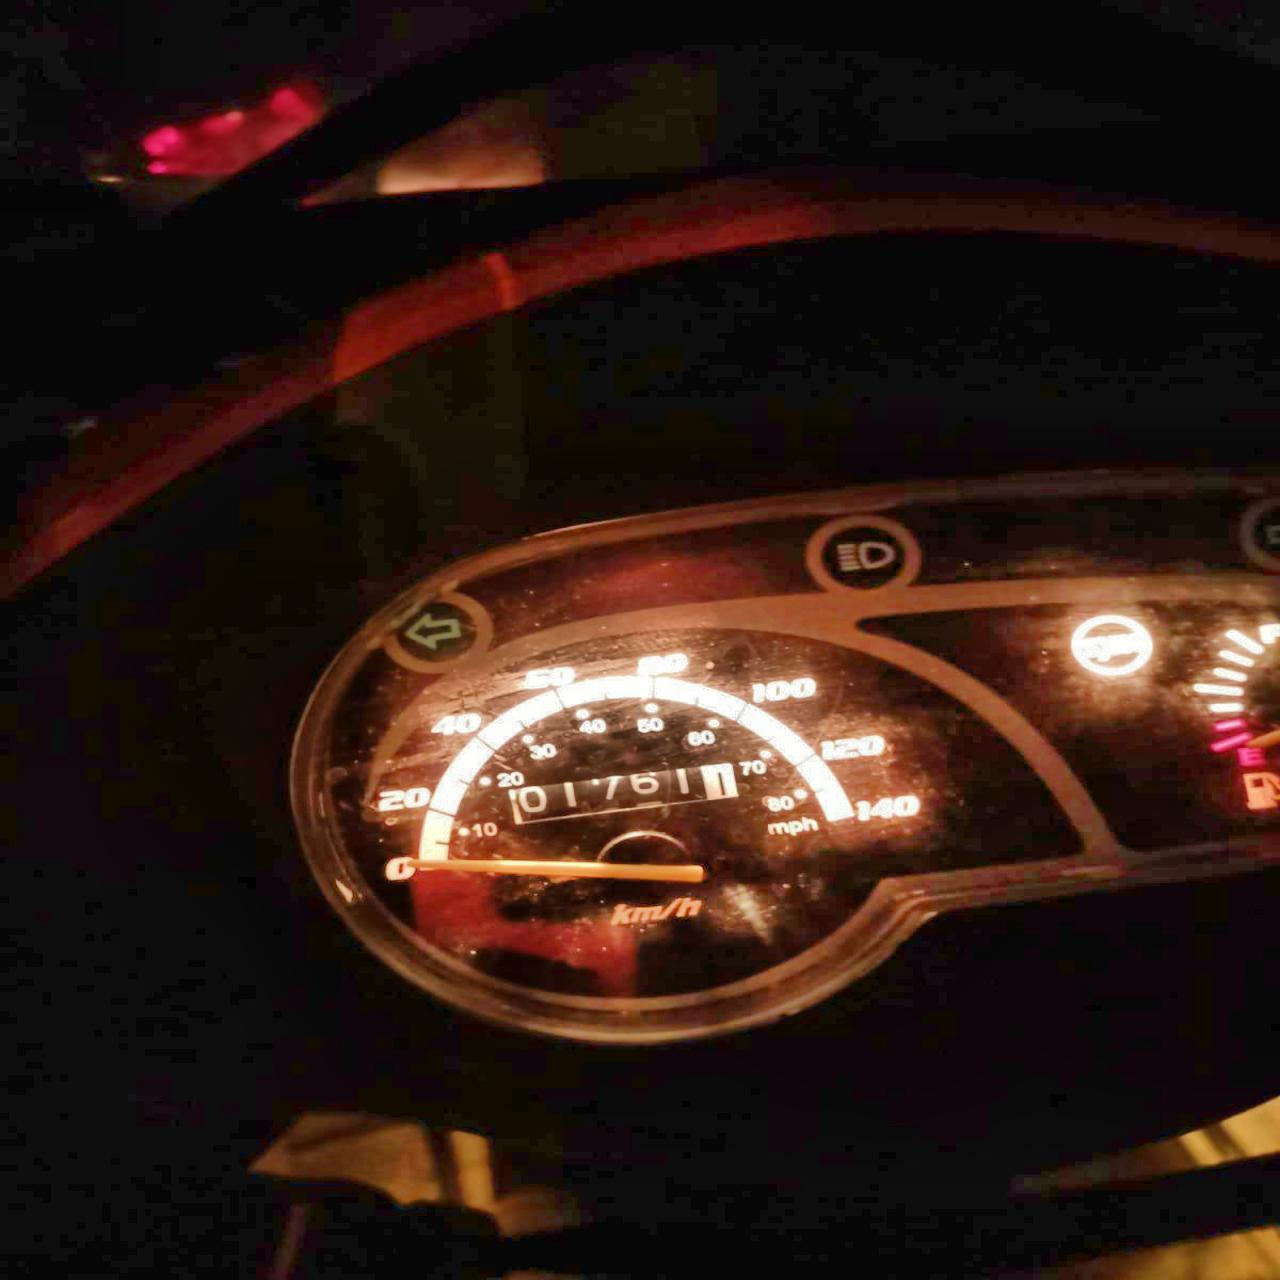0: (517, 785, 549, 812), (509, 769, 525, 785)
1: (558, 778, 580, 808), (672, 765, 693, 796), (710, 768, 729, 799)
6: (628, 769, 661, 795)
7: (588, 772, 622, 801)
odometer: (505, 761, 741, 825)
